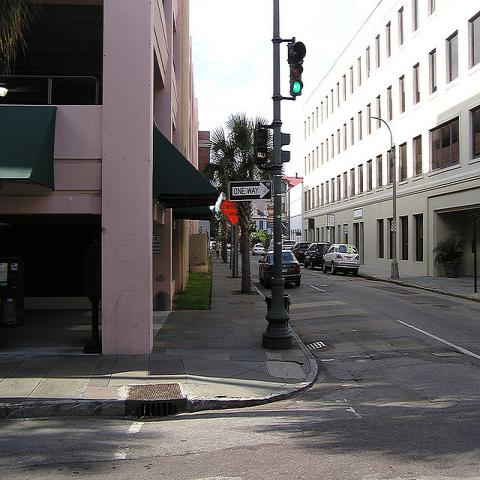car: (259, 249, 300, 288), (322, 244, 360, 276), (304, 242, 330, 270), (292, 242, 312, 264), (252, 244, 265, 256), (282, 240, 296, 250), (268, 246, 274, 252)
